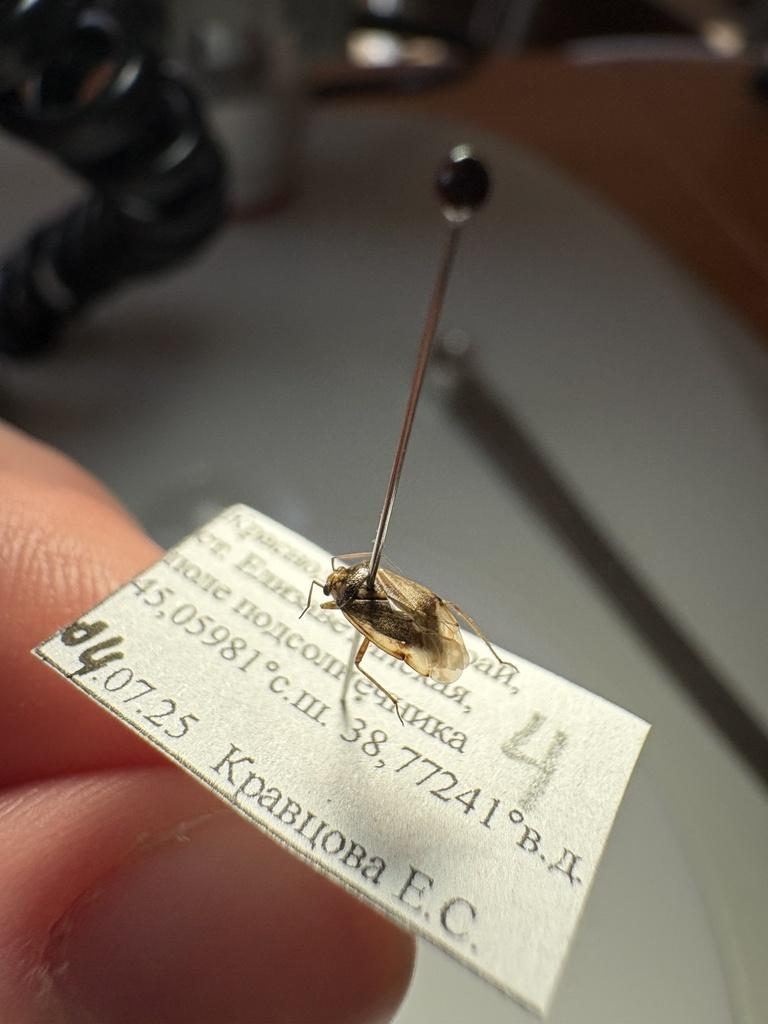plant_bugs: (273, 510, 536, 743)
